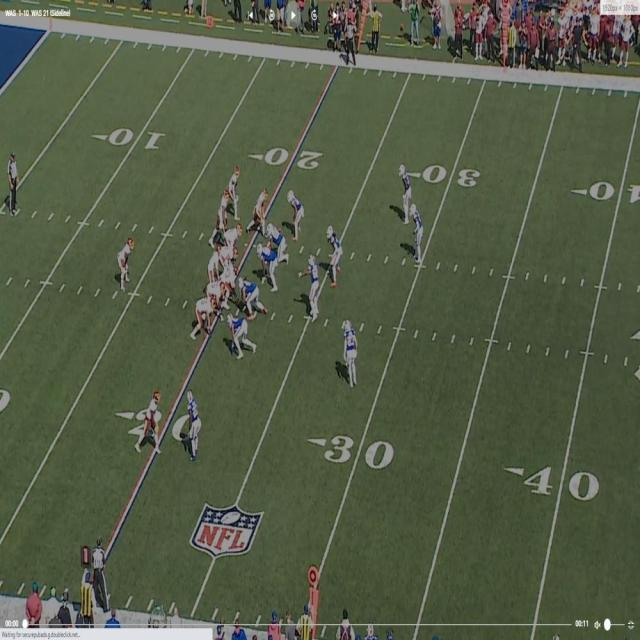center: (223, 264, 239, 308)
db: (346, 320, 360, 388), (186, 398, 199, 459), (399, 165, 412, 217), (410, 203, 420, 258)
lb: (305, 253, 320, 316), (326, 227, 342, 286), (292, 189, 304, 239)
qb: (205, 247, 220, 284)
skill: (140, 396, 160, 446), (118, 238, 131, 284), (253, 190, 269, 220), (219, 188, 232, 224), (227, 168, 240, 201)
